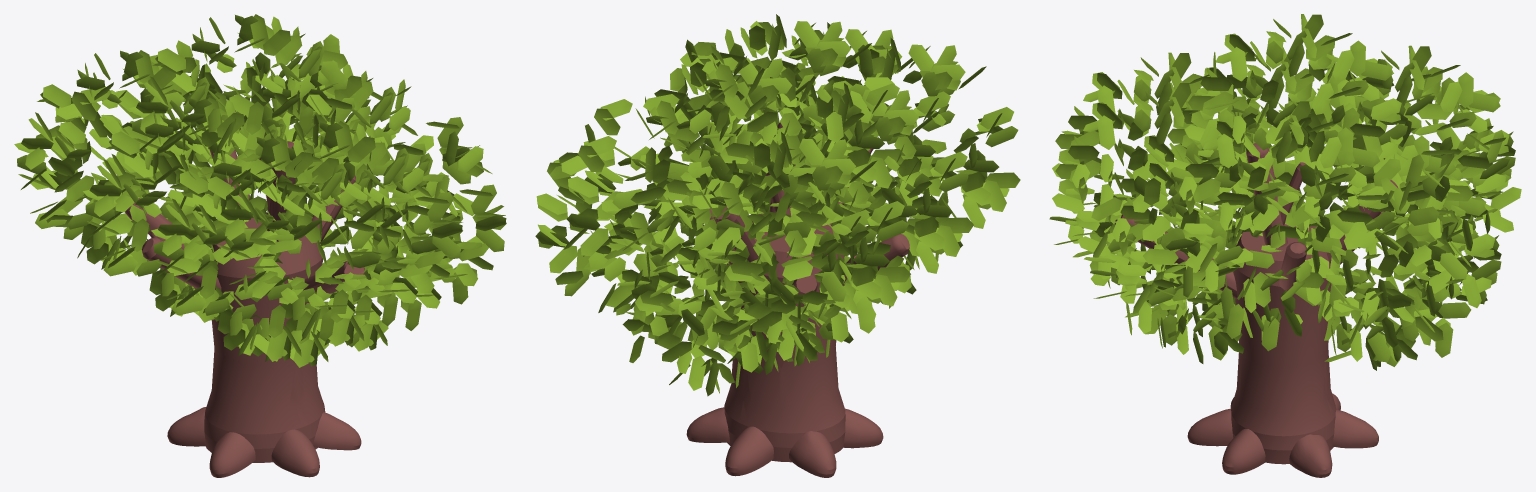
File: arvore-teste.fbx
3 renders of one model, left to right at view 1: azimuth 30°, elevation 25°; view 2: azimuth 150°, elevation 25°; view 3: azimuth 270°, elevation 25°, orthographic. The views are drawn at different scales.
Parts seen in each view (by area): view 1: Plane.003, Cylinder; view 2: Plane.003, Cylinder; view 3: Plane.003, Cylinder.
Boxes of the visible parts, x1,y1,x2,y2 form: Plane.003: (14, 14, 506, 367); Cylinder: (125, 141, 364, 477); Plane.003: (535, 14, 1020, 396); Cylinder: (686, 122, 909, 477); Plane.003: (1049, 14, 1521, 370); Cylinder: (1114, 143, 1398, 477).
Size of the model in its own units: 262 by 301 by 312.
